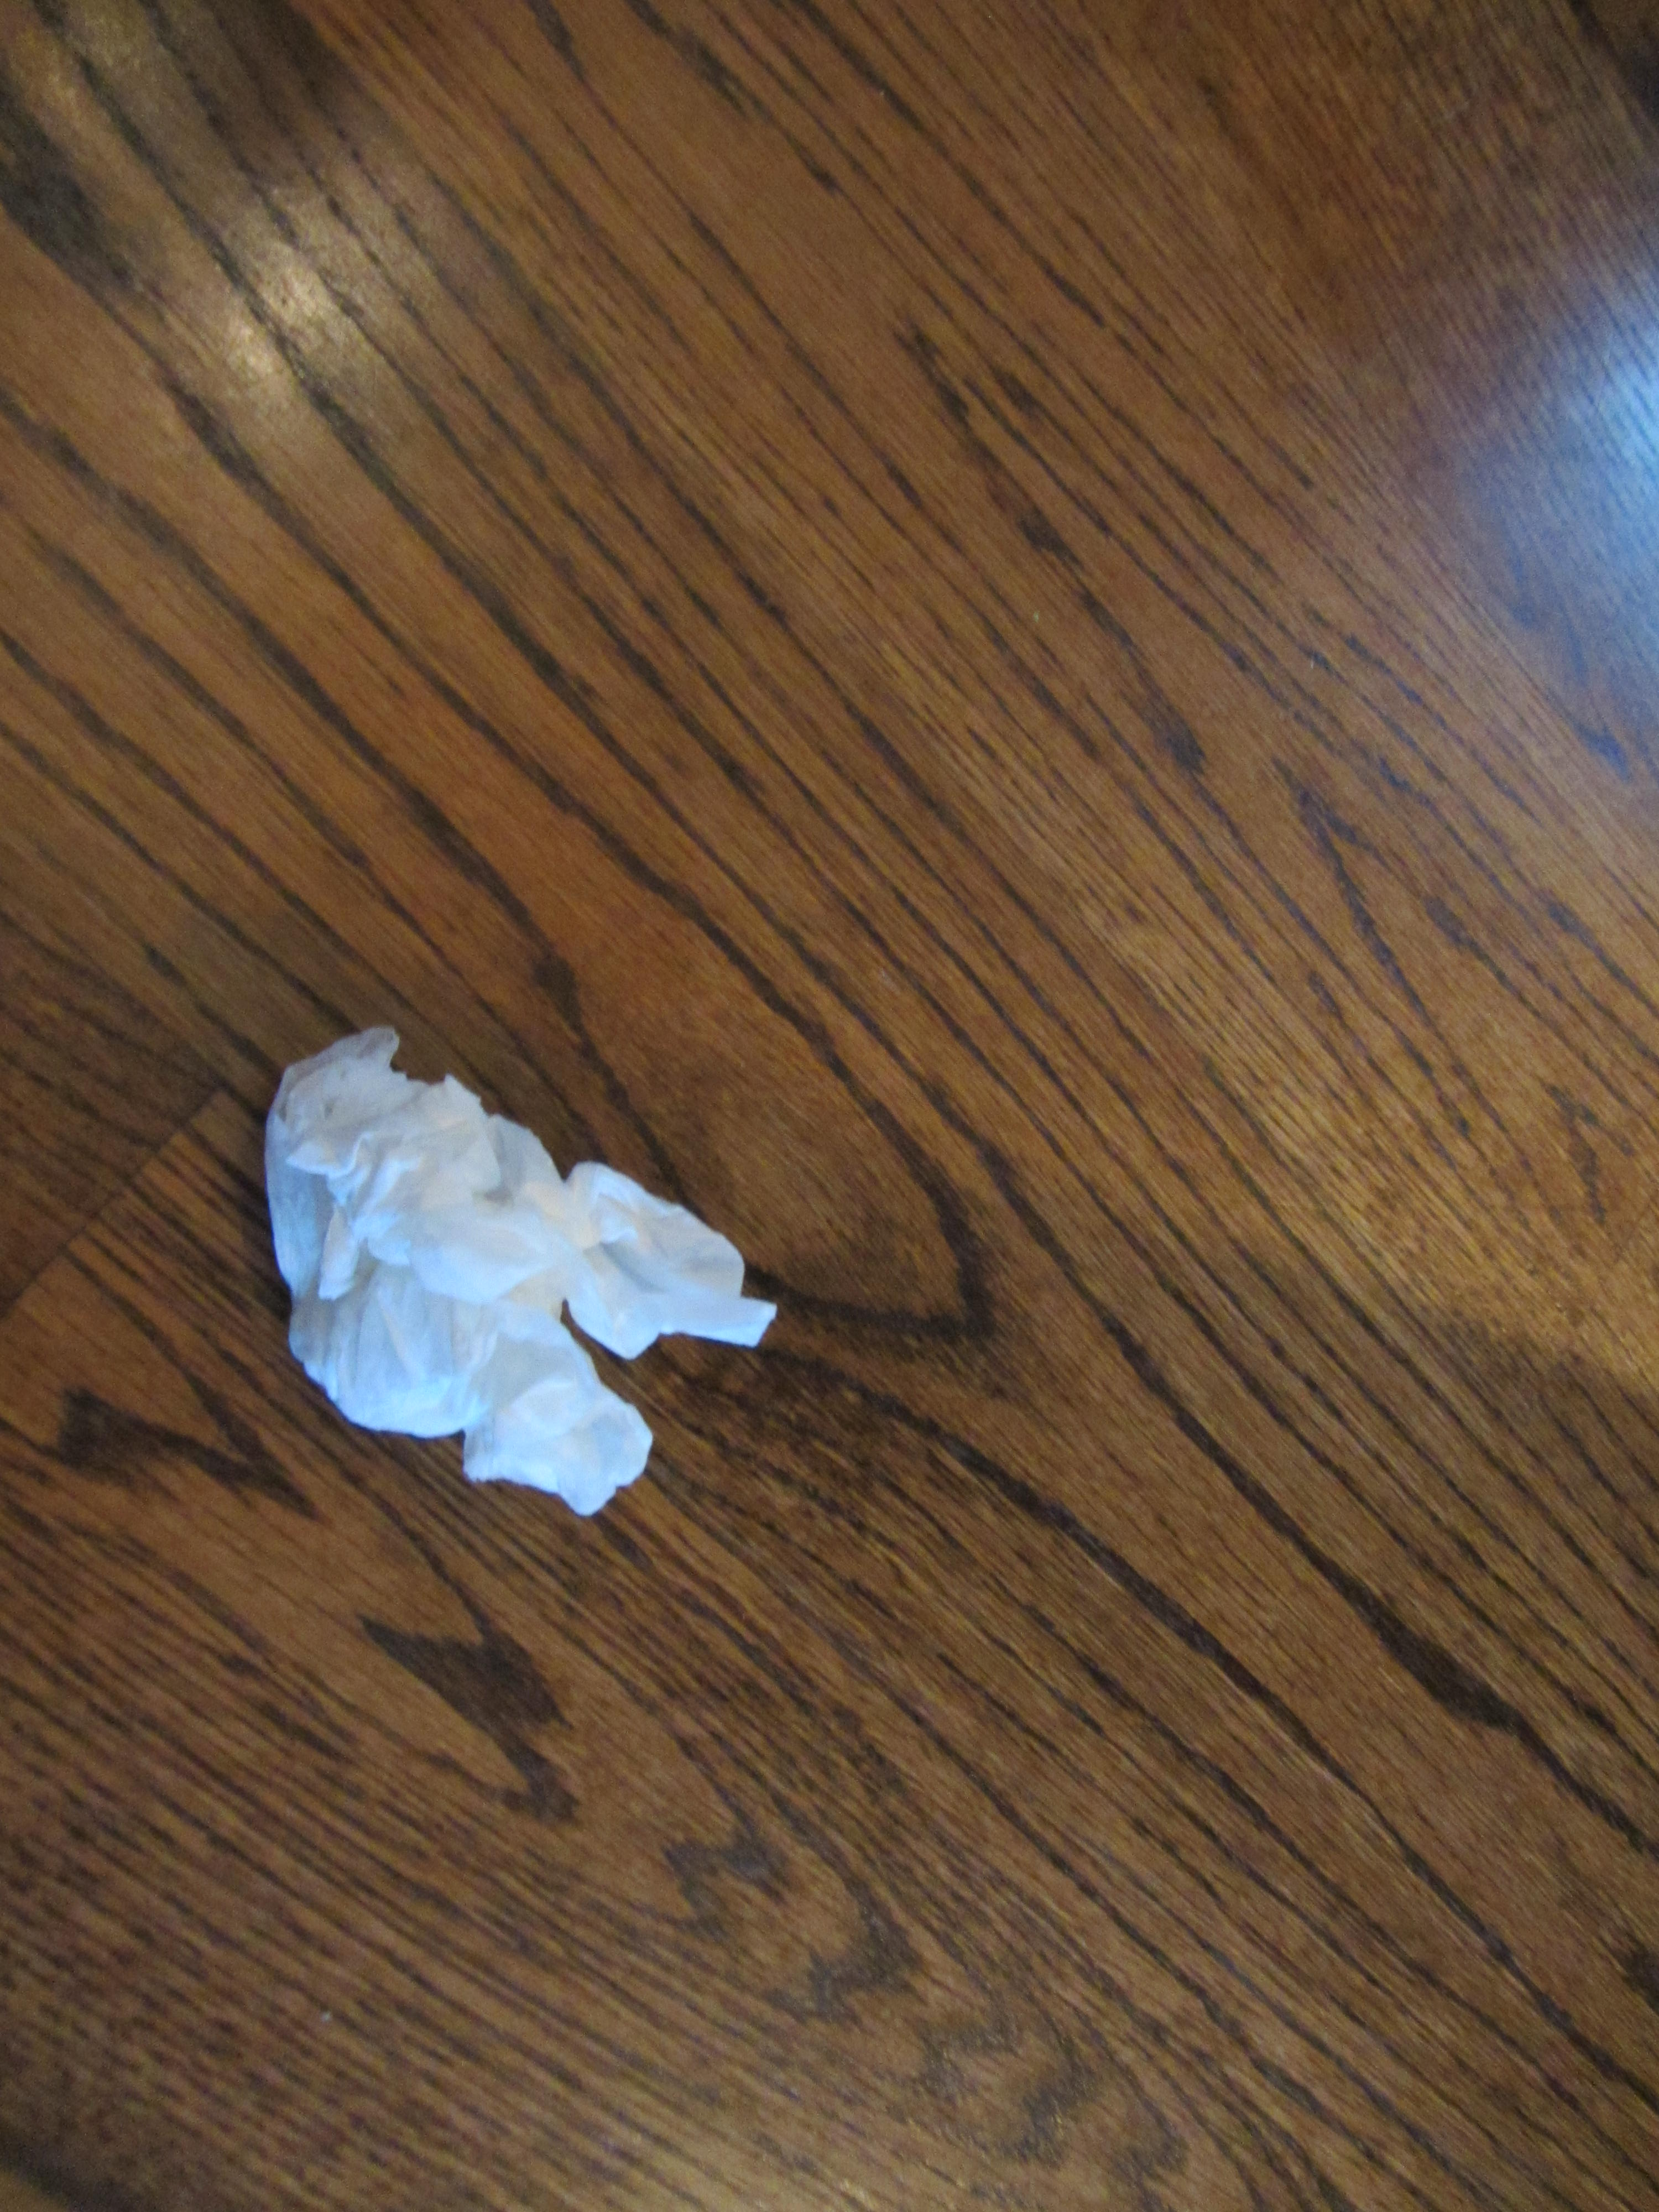tissue: (200, 996, 791, 1534)
